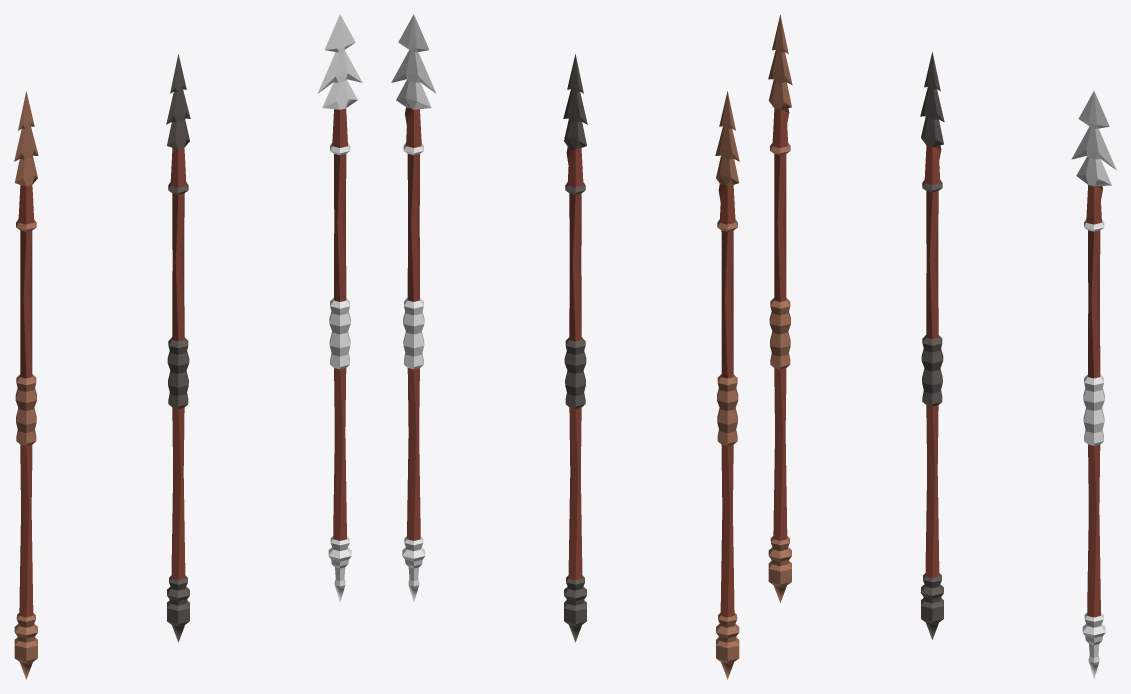
Rendered from spears.fbx.
3 views of the same model, side by side, from view 1: azimuth 30°, elevation 25°; view 2: azimuth 150°, elevation 25°; view 3: azimuth 330°, elevation 25° (orthographic).
Parts seen in each view (by area): view 1: SM_Wep_Boarding_Spear_01.001, SM_Wep_Boarding_Spear_01, SM_Wep_Boarding_Spear_01.002; view 2: SM_Wep_Boarding_Spear_01.001, SM_Wep_Boarding_Spear_01, SM_Wep_Boarding_Spear_01.002; view 3: SM_Wep_Boarding_Spear_01.001, SM_Wep_Boarding_Spear_01, SM_Wep_Boarding_Spear_01.002.
Boxes of the visible parts, left/top/right/bottom form: SM_Wep_Boarding_Spear_01.001: left=317, top=14, right=362, bottom=602; SM_Wep_Boarding_Spear_01: left=14, top=91, right=38, bottom=679; SM_Wep_Boarding_Spear_01.002: left=166, top=54, right=190, bottom=642; SM_Wep_Boarding_Spear_01.001: left=391, top=14, right=436, bottom=602; SM_Wep_Boarding_Spear_01: left=715, top=91, right=739, bottom=679; SM_Wep_Boarding_Spear_01.002: left=563, top=54, right=587, bottom=642; SM_Wep_Boarding_Spear_01.001: left=1071, top=91, right=1116, bottom=679; SM_Wep_Boarding_Spear_01: left=768, top=15, right=792, bottom=602; SM_Wep_Boarding_Spear_01.002: left=920, top=51, right=944, bottom=639.
Bounding box in the file's own units: 222 × 358 × 12.78.
